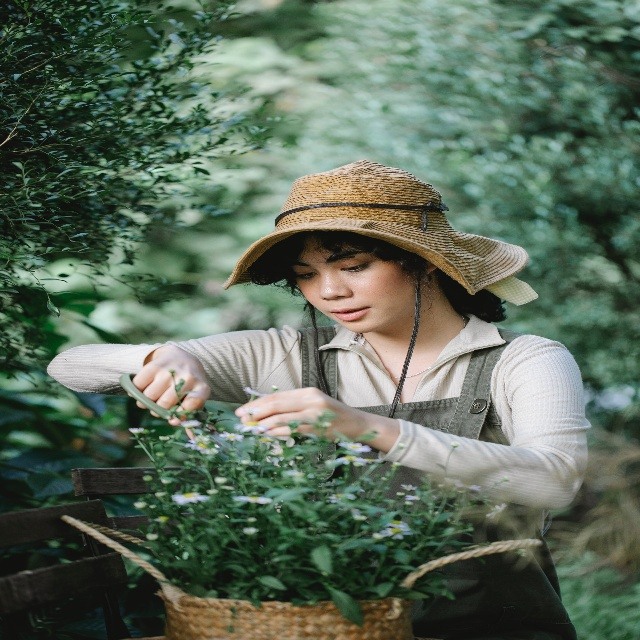Sin_guantes: (128, 345, 212, 440), (235, 386, 356, 444)
